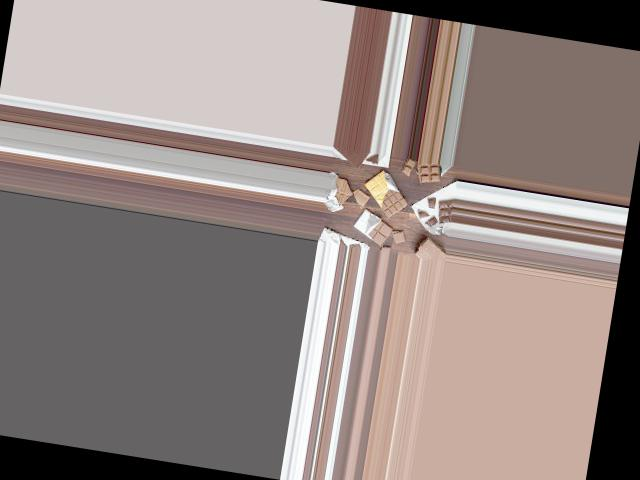chocolate: (352, 207, 395, 250)
